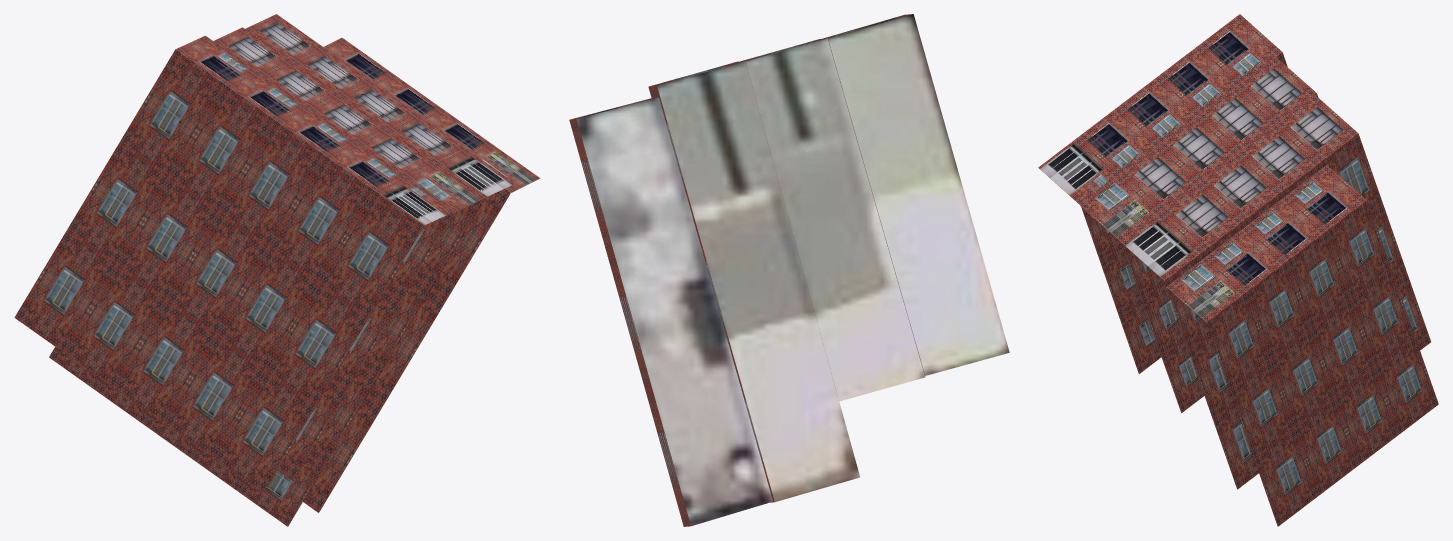
3 renders of one model, left to right at view 1: azimuth 30°, elevation 25°; view 2: azimuth 150°, elevation 25°; view 3: azimuth 270°, elevation 25°, orthographic. The views are drawn at different scales.
Bounding box in the file's own units: 28.49 × 29.78 × 24.97.
16 materials, 16 textured.
